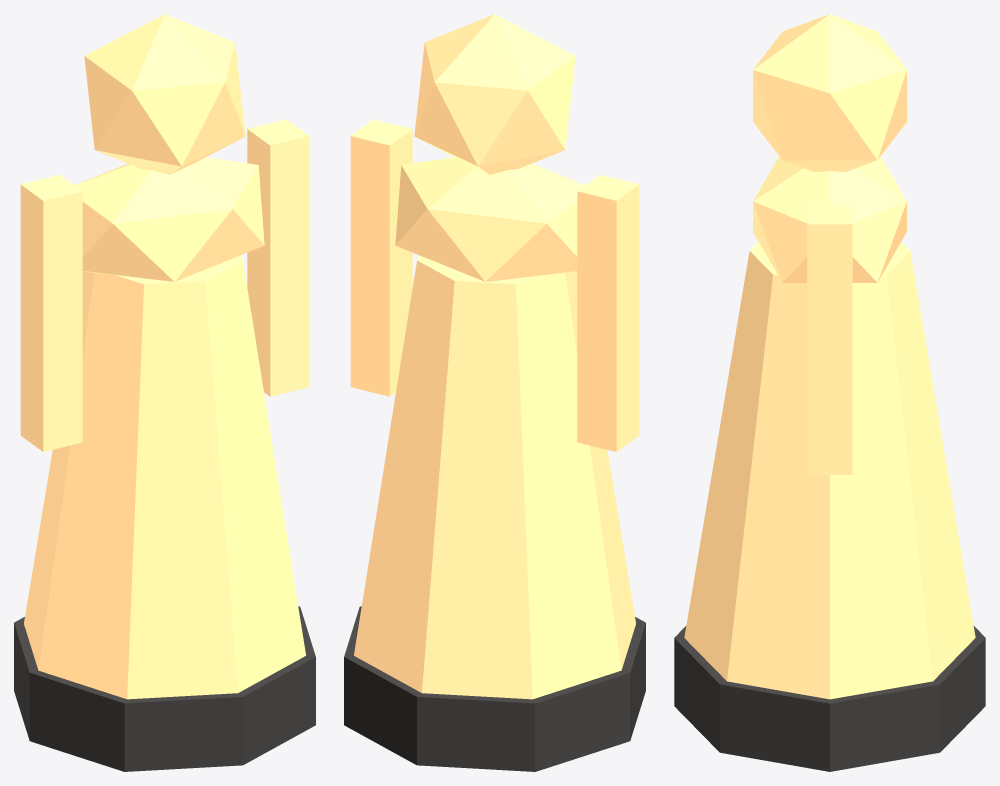
The model's file is Reliquia_Estatueta.fbx.
3 renders of one model, left to right at view 1: azimuth 30°, elevation 25°; view 2: azimuth 150°, elevation 25°; view 3: azimuth 270°, elevation 25°, orthographic.
Parts seen in each view (by area): view 1: Reliquia_Estatueta; view 2: Reliquia_Estatueta; view 3: Reliquia_Estatueta.
Part boxes in pixels (x1,y1,x2,y2): Reliquia_Estatueta: (14,14,315,771); Reliquia_Estatueta: (344,14,645,771); Reliquia_Estatueta: (674,14,985,771).
Bounding box in the file's own units: 12.4 × 30.4 × 12.4.
